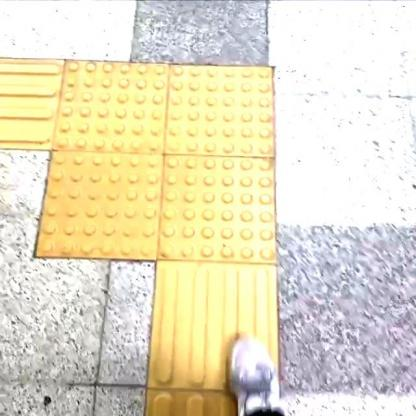podotacti: (17, 25, 302, 331), (144, 267, 283, 415)
